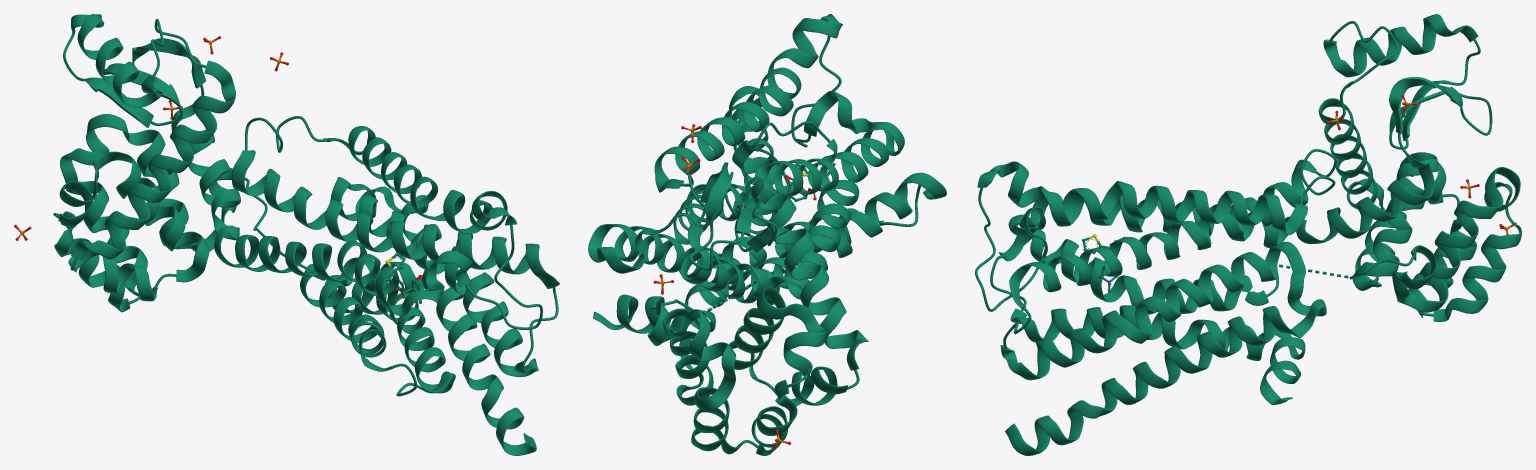
The model's file is 4DAJ.glb.
3 views of the same model, side by side, from view 1: azimuth 30°, elevation 25°; view 2: azimuth 150°, elevation 25°; view 3: azimuth 270°, elevation 25° (orthographic). The views are drawn at different scales.
Size of the model in its own units: 51.61 by 56.11 by 81.31.
